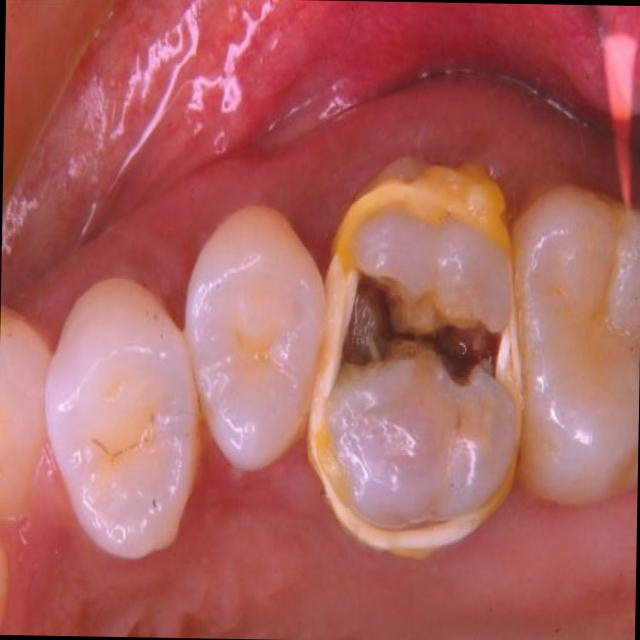Caries: (422, 327, 480, 373), (376, 296, 419, 344)
Cavity: (343, 273, 519, 396)
Tooth: (306, 164, 530, 553), (40, 281, 197, 556), (510, 191, 640, 505), (183, 200, 327, 463)
